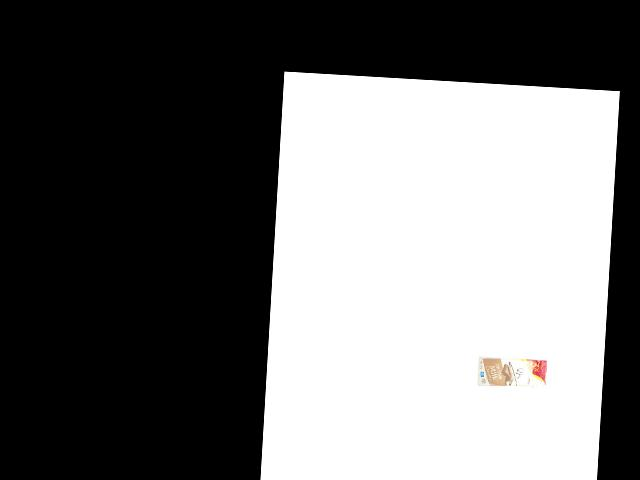chocolate: (478, 354, 548, 390)
